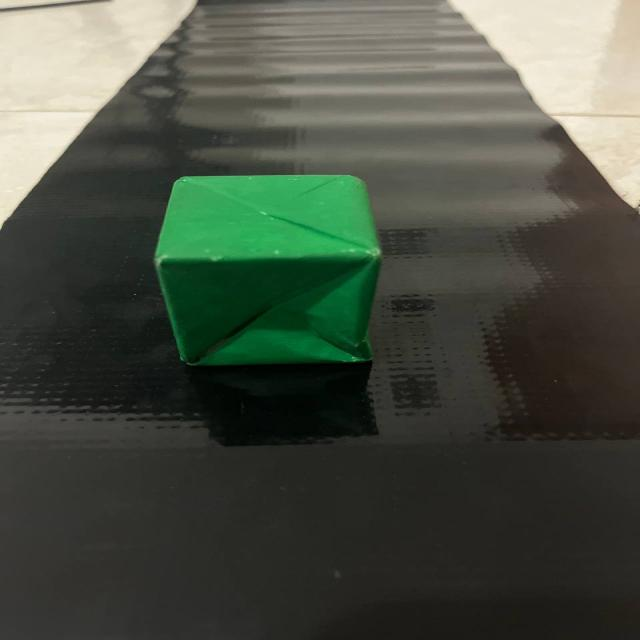Verde: (135, 161, 416, 386)
